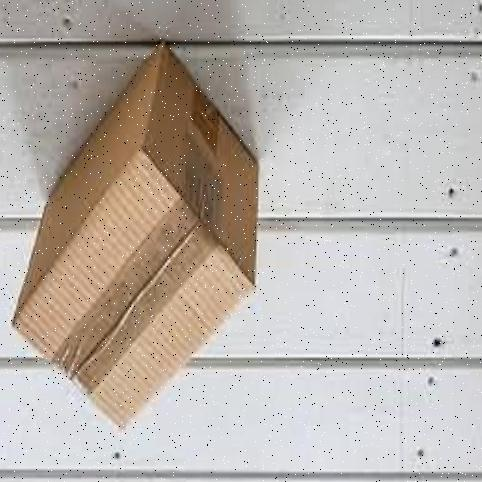Other: (11, 41, 271, 433)
